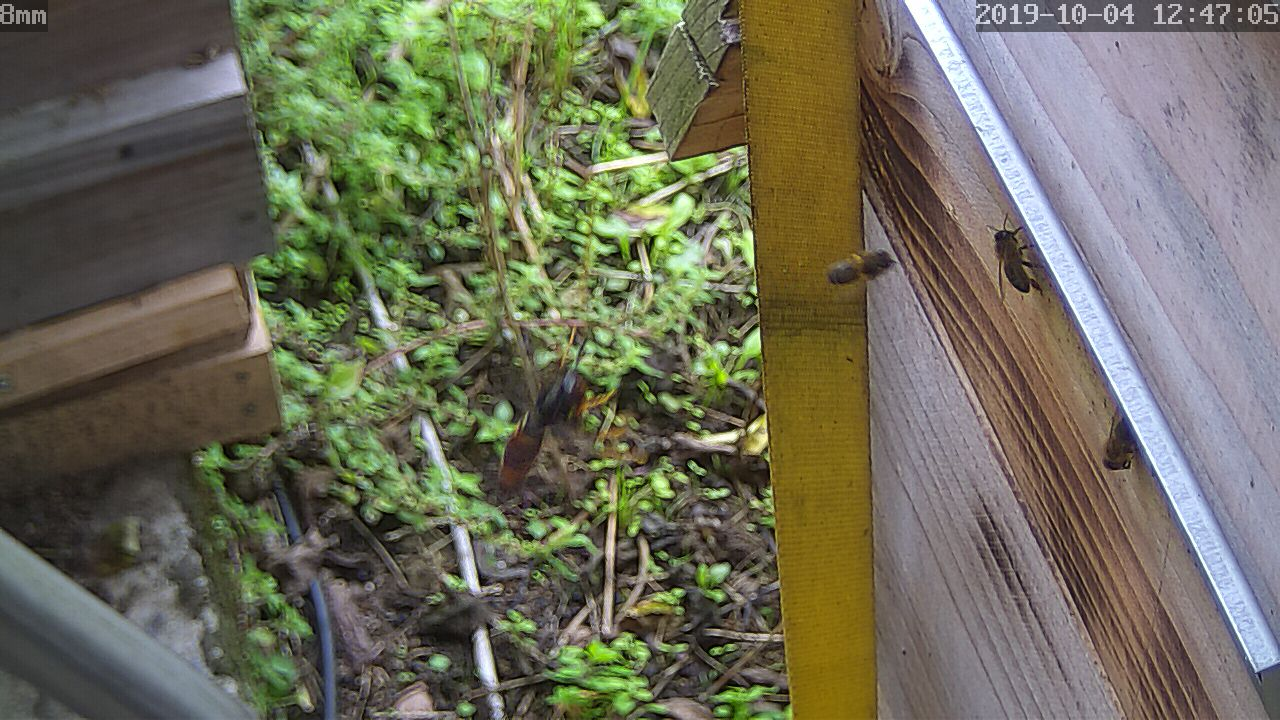bee: (980, 215, 1049, 298), (827, 228, 906, 296), (1082, 417, 1134, 484)
hornet: (483, 339, 603, 491)
